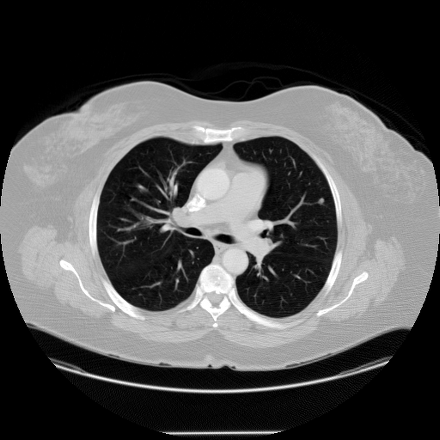nodule: (318, 197, 324, 203)
